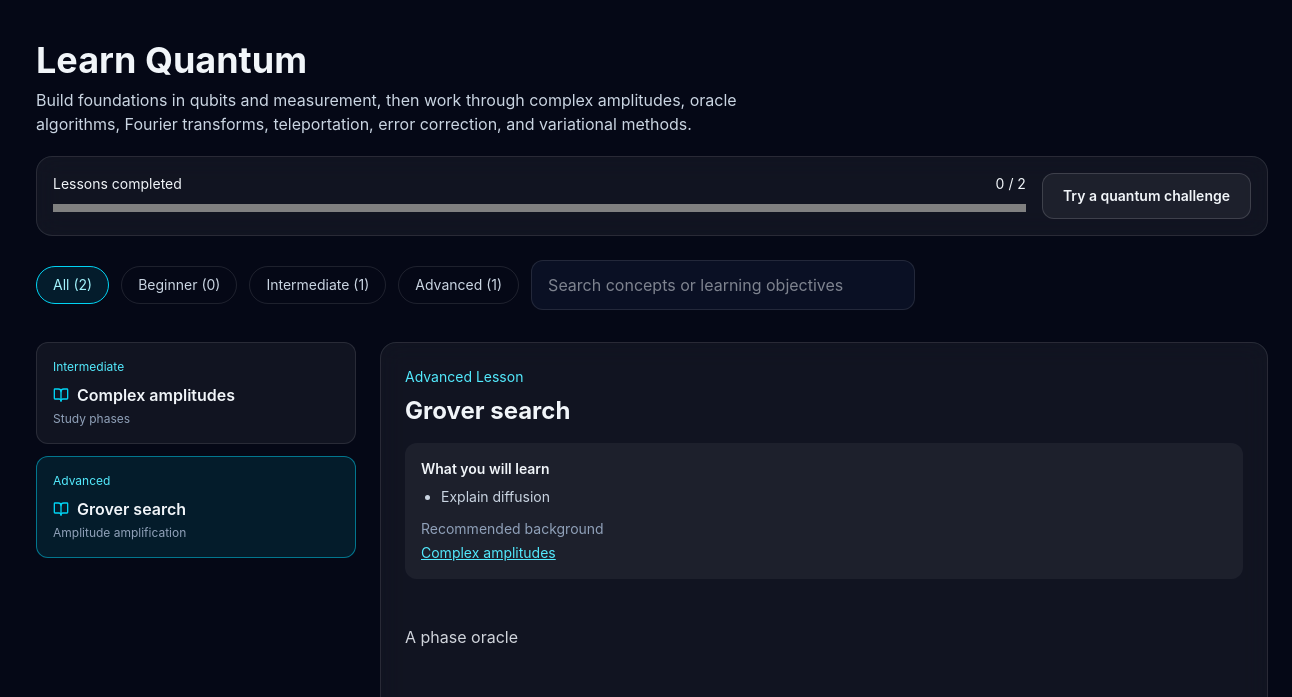
Scenario: workshop regressions › filters advanced lessons and follows prerequisite links
The width and height of the screenshot is (1292, 697).
Expected: the heading "Grover search" is shown, [405,396,570,425]
Click the button "advanced (1)" at (459, 285), box [398,266,519,304]
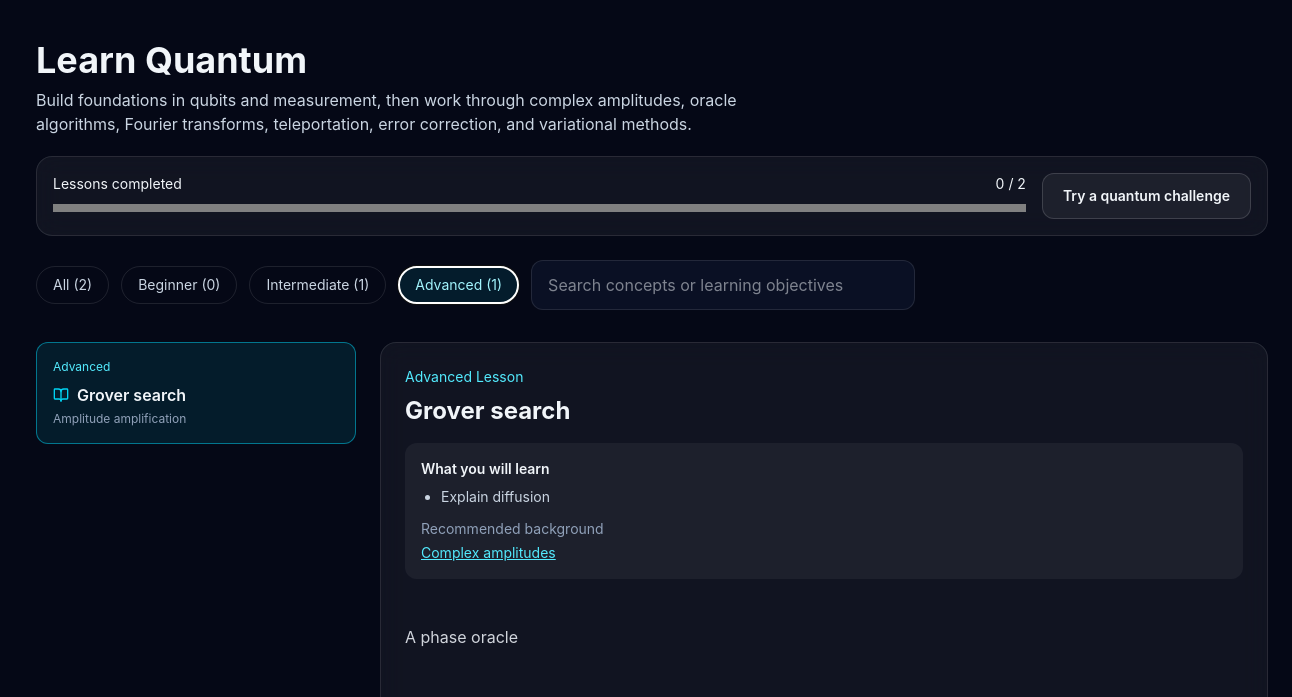
Expected: the heading "Grover search" is shown, [405,396,570,425]
Click the button "Complex amplitudes" at (488, 553), box [421,543,556,563]
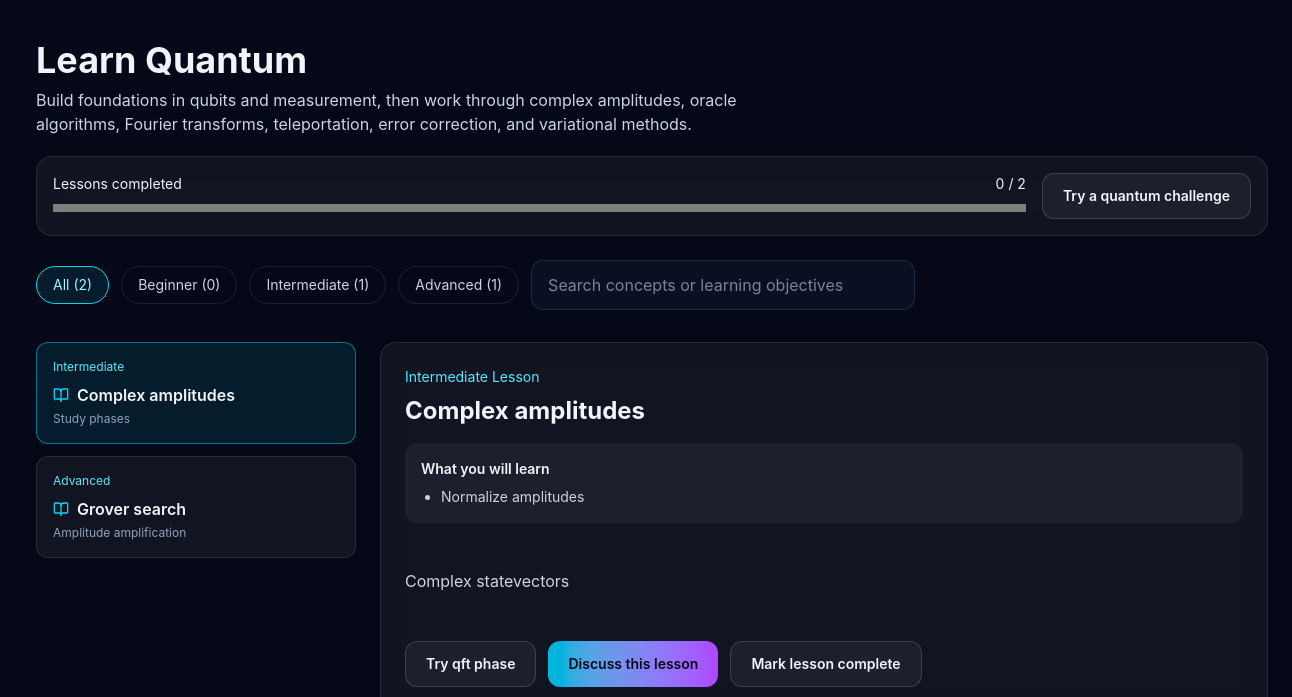
Expected: the heading "Complex amplitudes" is shown, [405,396,645,425]
Type "nonexistent concept" into the field named "Search lessons" at (723, 285), box [531,260,915,310]
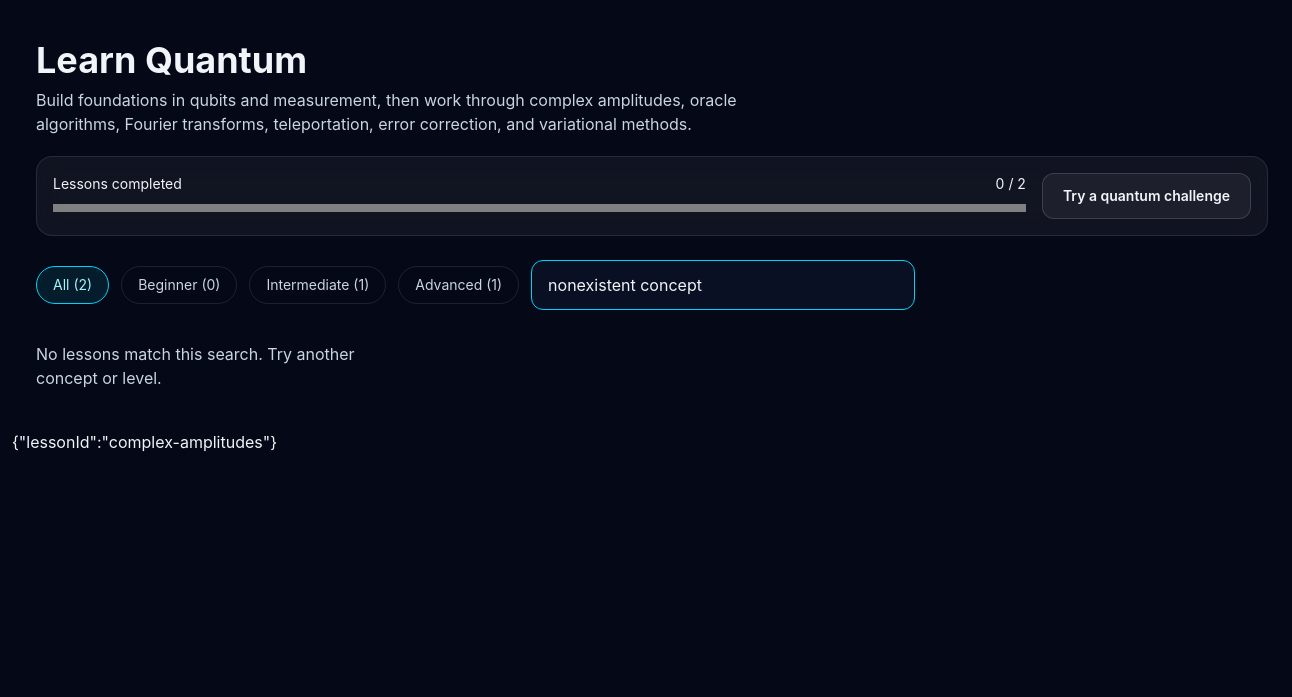
Expected: the text "No lessons match this search. Try another concept or level." is shown, [36,342,356,390]
